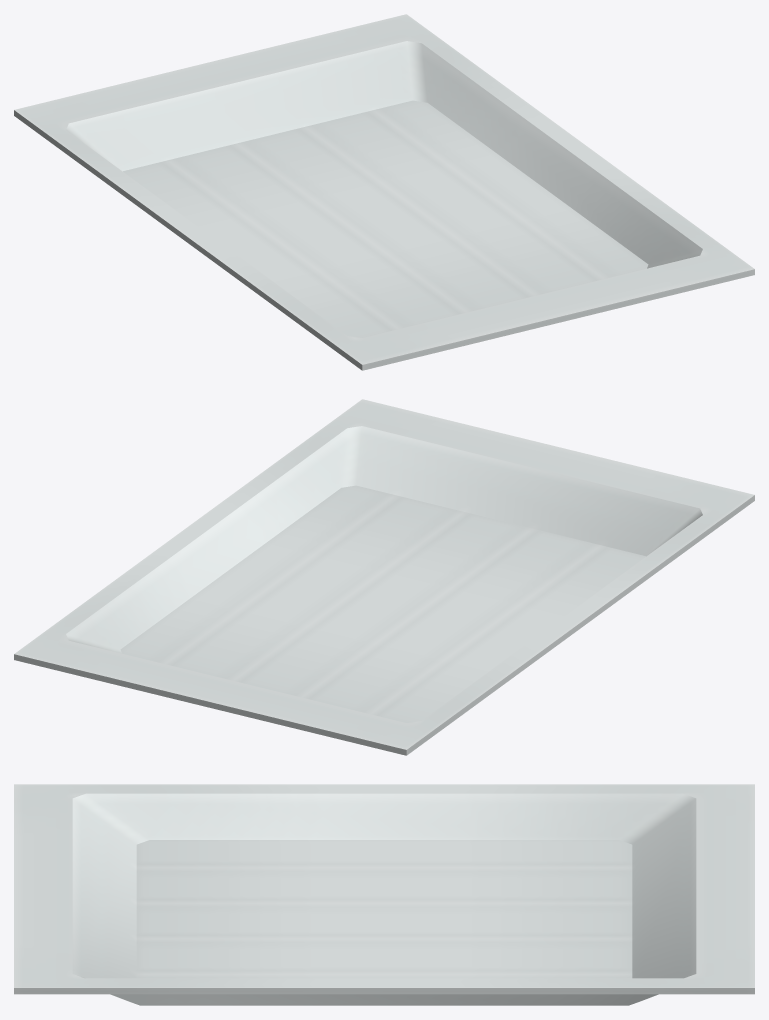
Rendered from jsf_PlasticTray_02.fbx.
3 renders of one model, top to bottom at view 1: azimuth 30°, elevation 25°; view 2: azimuth 150°, elevation 25°; view 3: azimuth 270°, elevation 25°, orthographic. The views are drawn at different scales.
Parts seen in each view (by area): view 1: jsf_PlasticTray_02; view 2: jsf_PlasticTray_02; view 3: jsf_PlasticTray_02.
Boxes of the visible parts, <box> form: jsf_PlasticTray_02: <box>14,14,754,370</box>; jsf_PlasticTray_02: <box>14,399,754,755</box>; jsf_PlasticTray_02: <box>14,784,754,1005</box>.
Size of the model in its own units: 15.63 by 1.43 by 24.02.
